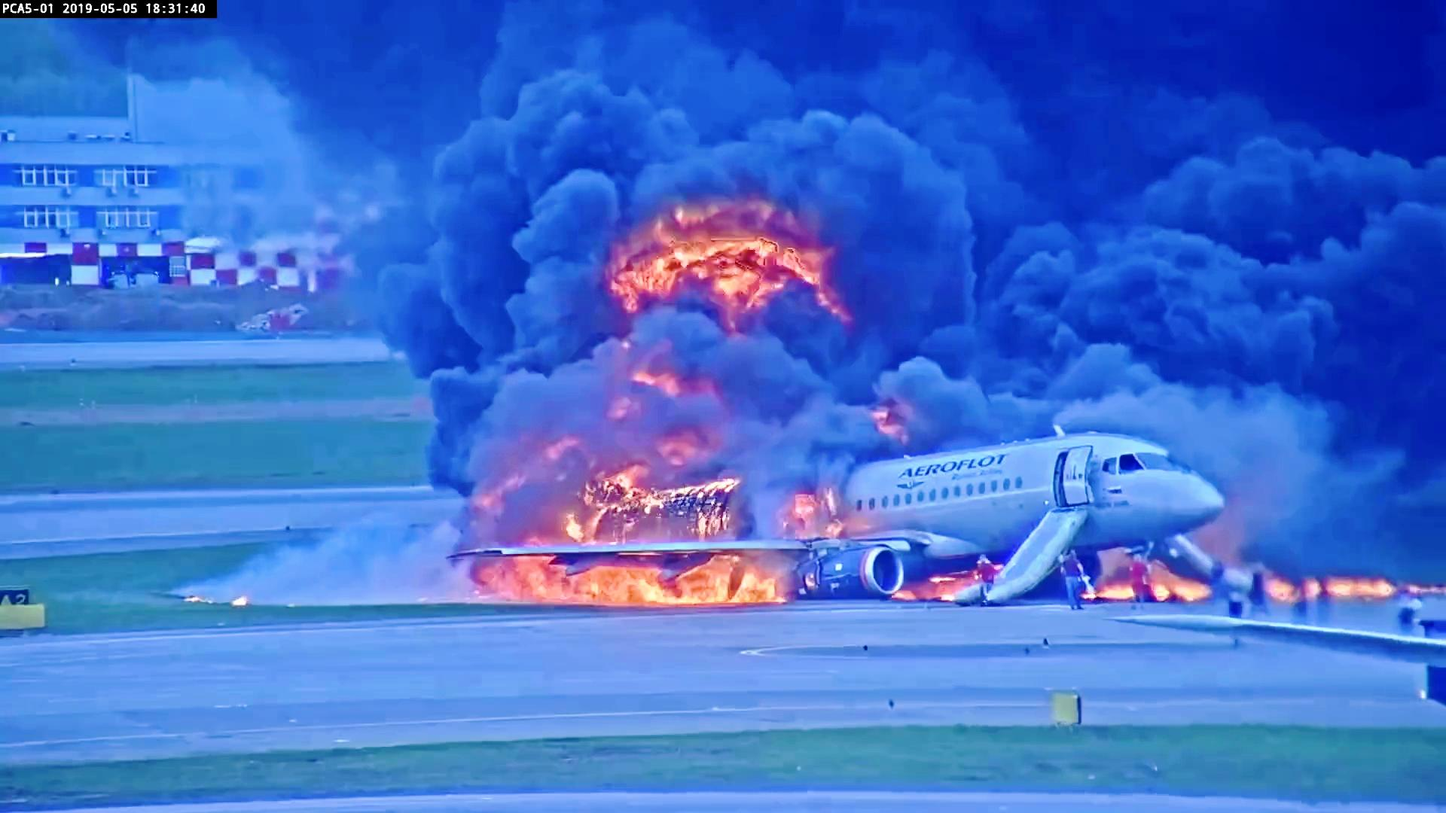fire: (503, 552, 769, 602), (644, 228, 811, 293)
smoke: (934, 142, 1442, 443)
